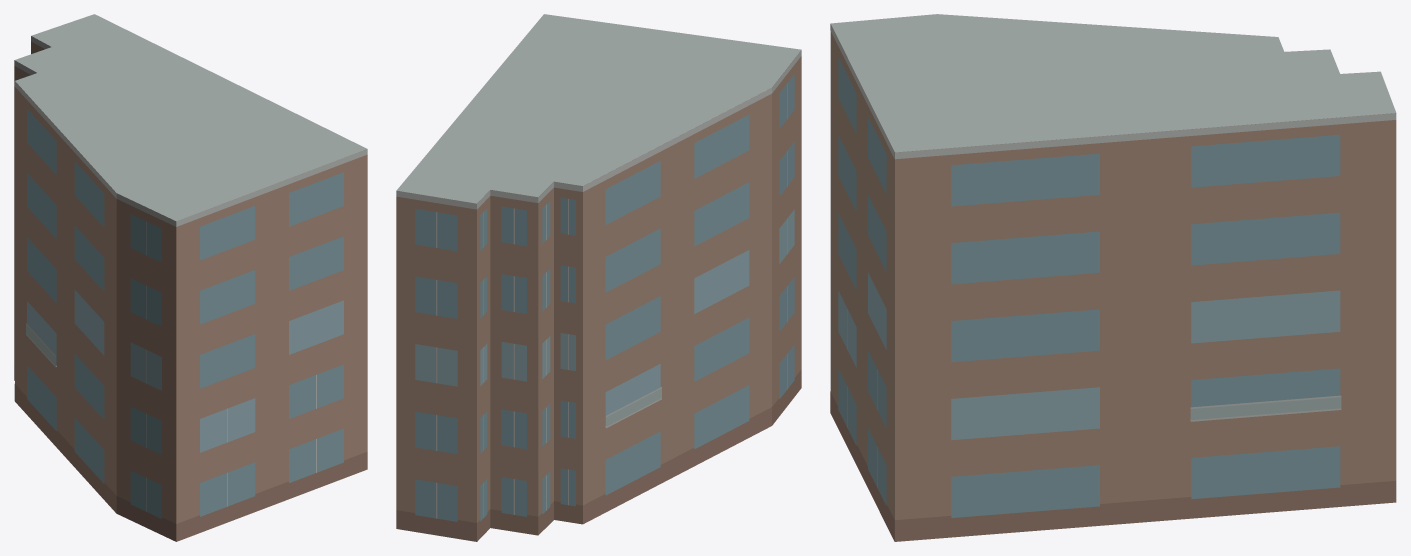
Rendered from survey-upis-32988933.glb.
3 renders of one model, left to right at view 1: azimuth 30°, elevation 25°; view 2: azimuth 150°, elevation 25°; view 3: azimuth 270°, elevation 25°, orthographic. The views are drawn at different scales.
Visible parts, largest first — view 1: survey-upis-32988933.tmp; view 2: survey-upis-32988933.tmp; view 3: survey-upis-32988933.tmp.
Boxes of the visible parts, bbox=[...] form: survey-upis-32988933.tmp: bbox=[14, 14, 367, 541]; survey-upis-32988933.tmp: bbox=[396, 14, 801, 541]; survey-upis-32988933.tmp: bbox=[830, 14, 1396, 541].
Size of the model in its own units: 10.61 by 13.9 by 18.32.
